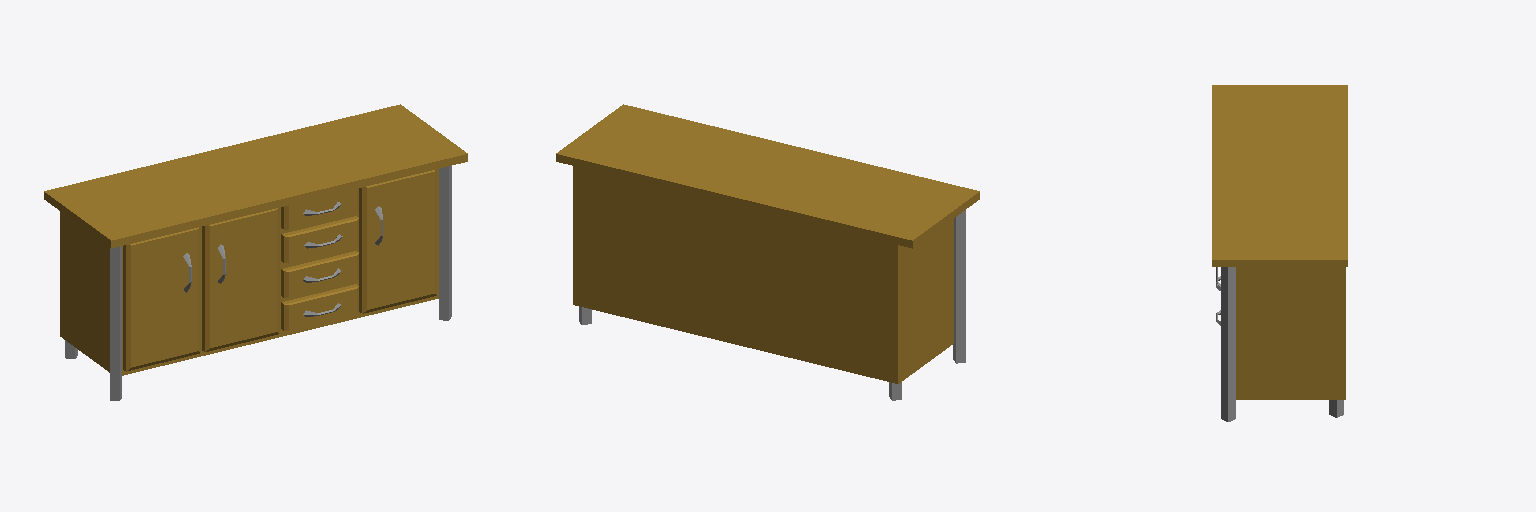
Rendered from dresser.obj.
3 renders of one model, left to right at view 1: azimuth 30°, elevation 25°; view 2: azimuth 150°, elevation 25°; view 3: azimuth 270°, elevation 25°, orthographic.
Parts seen in each view (by area): view 1: Cube_2_2, Cube_3_2_10, Cube_3_1_9, Cube_3_8, Cube_1_1, Cube_3_6_14, Cube_3_4_12, Cube_3_5_13, Cylinder_1_3, Cylinder_1_1_4, Cube_3_3_11; view 2: Cube_1_1, Cube_2_2, Cylinder_1_1_4; view 3: Cube_2_2, Cube_1_1, Cylinder_1_3.
Part boxes in pixels (x1,y1,x2,y2): Cube_2_2: (44,104,467,248); Cube_3_2_10: (359,169,436,313); Cube_3_1_9: (202,208,279,351); Cube_3_8: (123,227,200,371); Cube_1_1: (60,169,438,375); Cube_3_6_14: (281,284,358,330); Cube_3_4_12: (281,216,358,262); Cube_3_5_13: (281,251,358,297); Cylinder_1_3: (439,166,451,320); Cylinder_1_1_4: (110,246,121,400); Cube_3_3_11: (281,188,358,229); Cube_1_1: (573,166,953,383); Cube_2_2: (556,104,979,248); Cylinder_1_1_4: (953,210,965,363); Cube_2_2: (1212,85,1347,266); Cube_1_1: (1236,267,1345,399); Cylinder_1_3: (1221,267,1235,421).
Bounding box in the file's own units: 138 × 61.91 × 45.4.